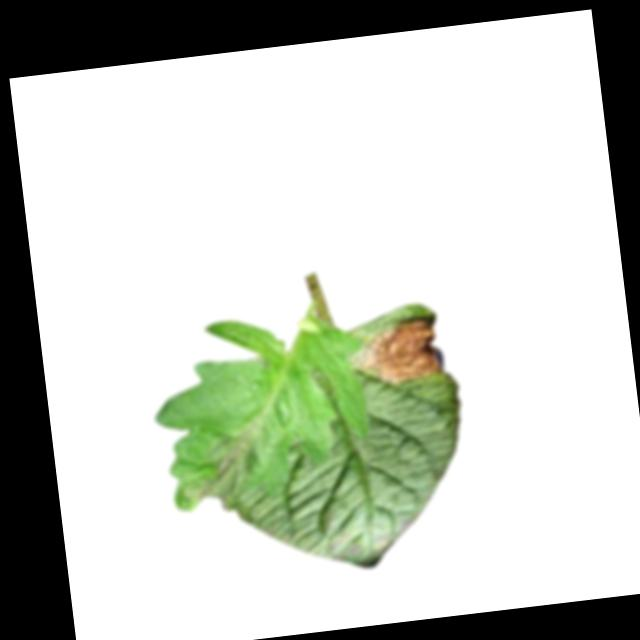Late_blight: (351, 313, 447, 389), (178, 429, 264, 509)
